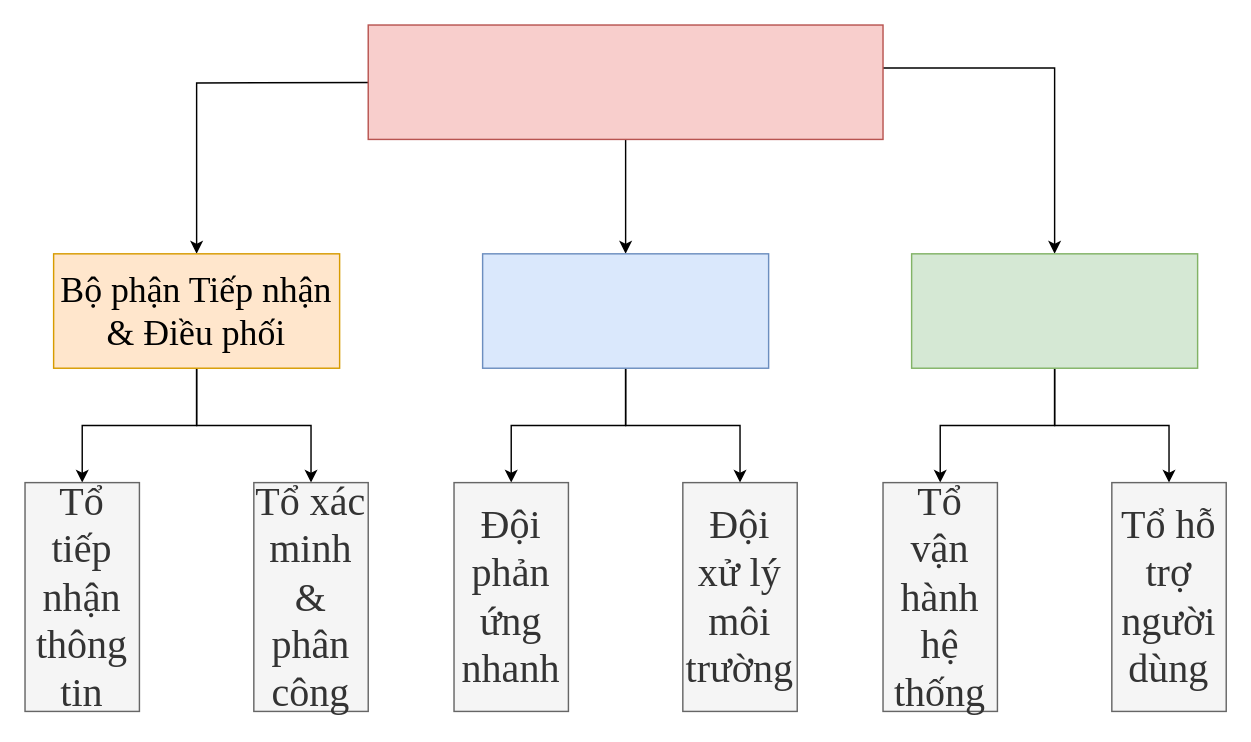
Some shapes in this 1251 by 742 pixel diagram are drawn without their labels. The centre of each missing label's shape, as x and y in pixels:
"Bộ phận Kỹ thuật & Quản trị" goes at [1054,310].
"CỔNG BÁO CÁO SỰ CỐ MÔI TRƯỜNG VÀ XỬ LÝ HIỆN TRƯỜNG" goes at [625,81].
"Lực lượng Xử lý hiện trường" goes at [625,310].
